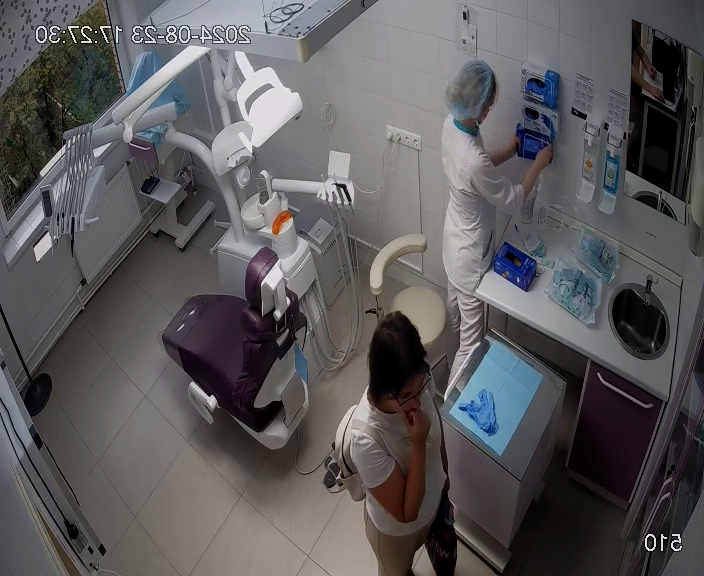Empty: (160, 245, 313, 453)
